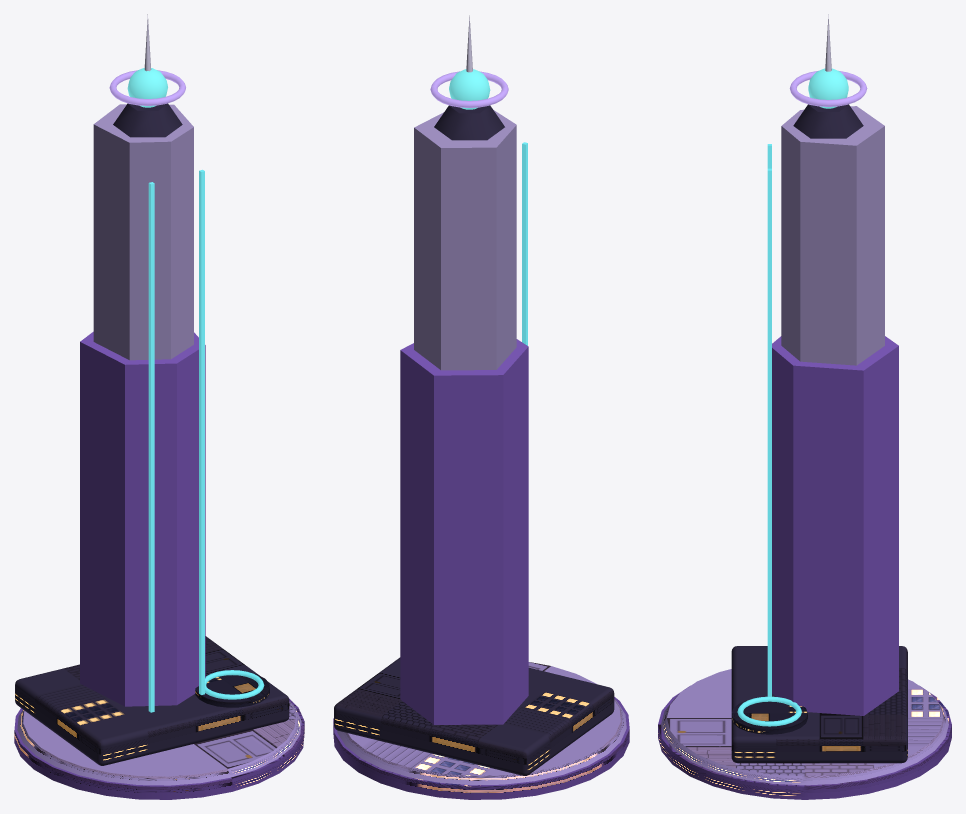
Rendered from tier-16-hero-hq.glb.
3 renders of one model, left to right at view 1: azimuth 30°, elevation 25°; view 2: azimuth 150°, elevation 25°; view 3: azimuth 270°, elevation 25°, orthographic. The views are drawn at different scales.
Parts seen in each view (by area): view 1: gloss, toon, glow, pulse (×2); view 2: gloss, toon, pulse (×2), glow; view 3: gloss, toon, glow, pulse (×2).
Boxes of the visible parts, x1,y1,x2,y2 form: gloss: [80, 14, 205, 706]; toon: [14, 636, 304, 799]; glow: [148, 169, 264, 712]; pulse (×2): [109, 68, 185, 107]; gloss: [400, 15, 528, 724]; toon: [333, 657, 629, 799]; pulse (×2): [430, 69, 508, 109]; glow: [522, 142, 527, 345]; gloss: [772, 14, 898, 715]; toon: [658, 646, 951, 799]; glow: [737, 144, 801, 726]; pulse (×2): [789, 68, 867, 108].
Size of the model in its own units: 1 by 2.72 by 1.
Materials: 4 (1 with a texture image).
